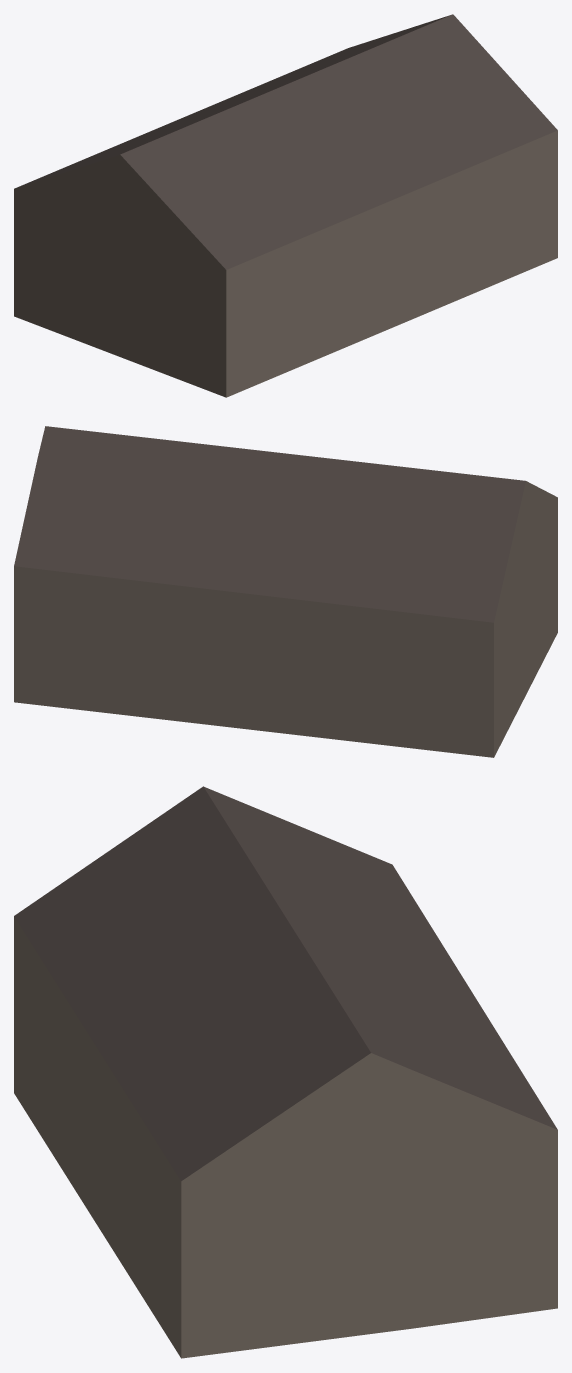
3 views of the same model, one above another, from view 1: azimuth 30°, elevation 25°; view 2: azimuth 150°, elevation 25°; view 3: azimuth 270°, elevation 25° (orthographic). The views are drawn at different scales.
Visible parts, largest first — view 1: HP-w1197020932; view 2: HP-w1197020932; view 3: HP-w1197020932.
Part boxes in pixels (left/top/right/bottom): HP-w1197020932: left=14, top=14, right=557, bottom=397; HP-w1197020932: left=14, top=426, right=557, bottom=757; HP-w1197020932: left=14, top=786, right=557, bottom=1358.
Size of the model in its own units: 23.01 by 9.52 by 16.7.
